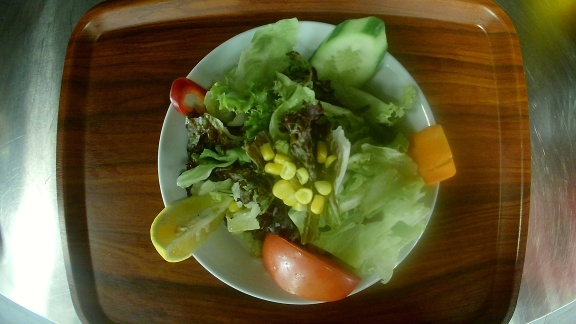salata: (152, 18, 446, 305)
